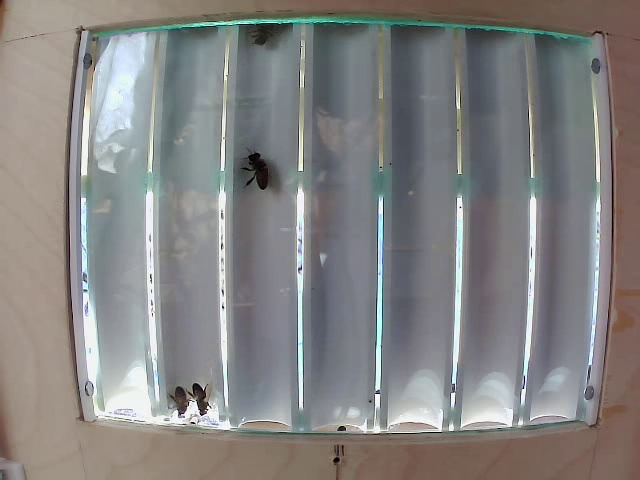bee: (240, 148, 272, 197), (188, 378, 214, 412), (251, 28, 274, 51)
